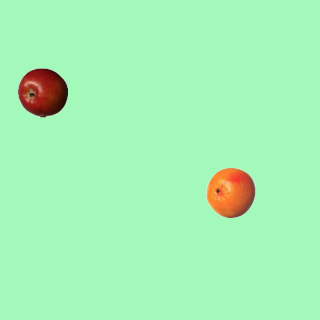Apple Braeburn: (17, 67, 67, 117)
Grapefruit Pink: (205, 167, 255, 217)
